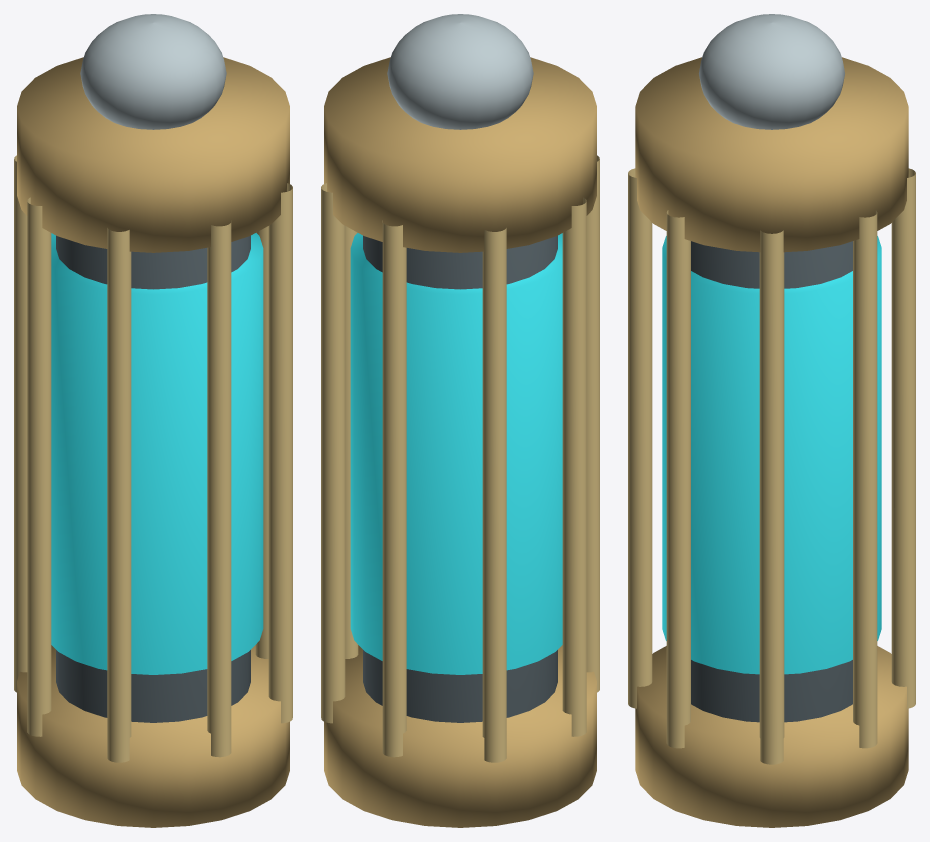
The model's file is Shared_ResonanceCapacitor_REVIEW.glb.
The picture shows the model from 3 angles, left to right: view 1: azimuth 30°, elevation 25°; view 2: azimuth 150°, elevation 25°; view 3: azimuth 270°, elevation 25°; orthographic projection.
Parts seen in each view (by area): view 1: ResonanceCapacitor; view 2: ResonanceCapacitor; view 3: ResonanceCapacitor.
Part boxes in pixels (x1,y1,x2,y2): ResonanceCapacitor: (14, 14, 292, 827); ResonanceCapacitor: (321, 14, 599, 827); ResonanceCapacitor: (628, 14, 915, 827).
Bounding box in the file's own units: 0.118 × 0.338 × 0.118.
